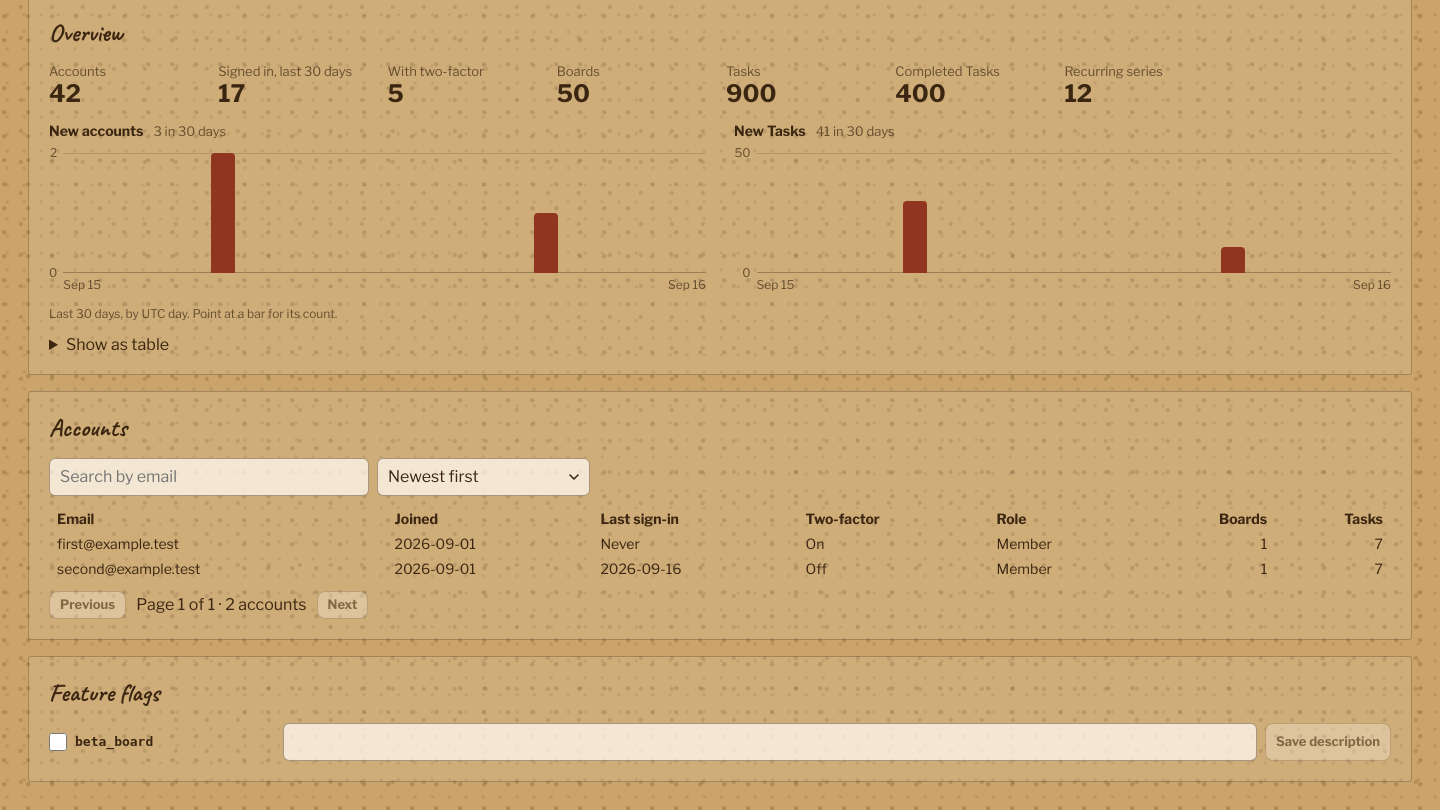
Test: a failed flag write is shown, and the list is not refreshed as if it saved
(page scrolled)
What coordinates should you click on to do the following:
click the checkbox labelled "beta_board"
I would click on:
 (58, 742)
Its box is [49,733,67,751].
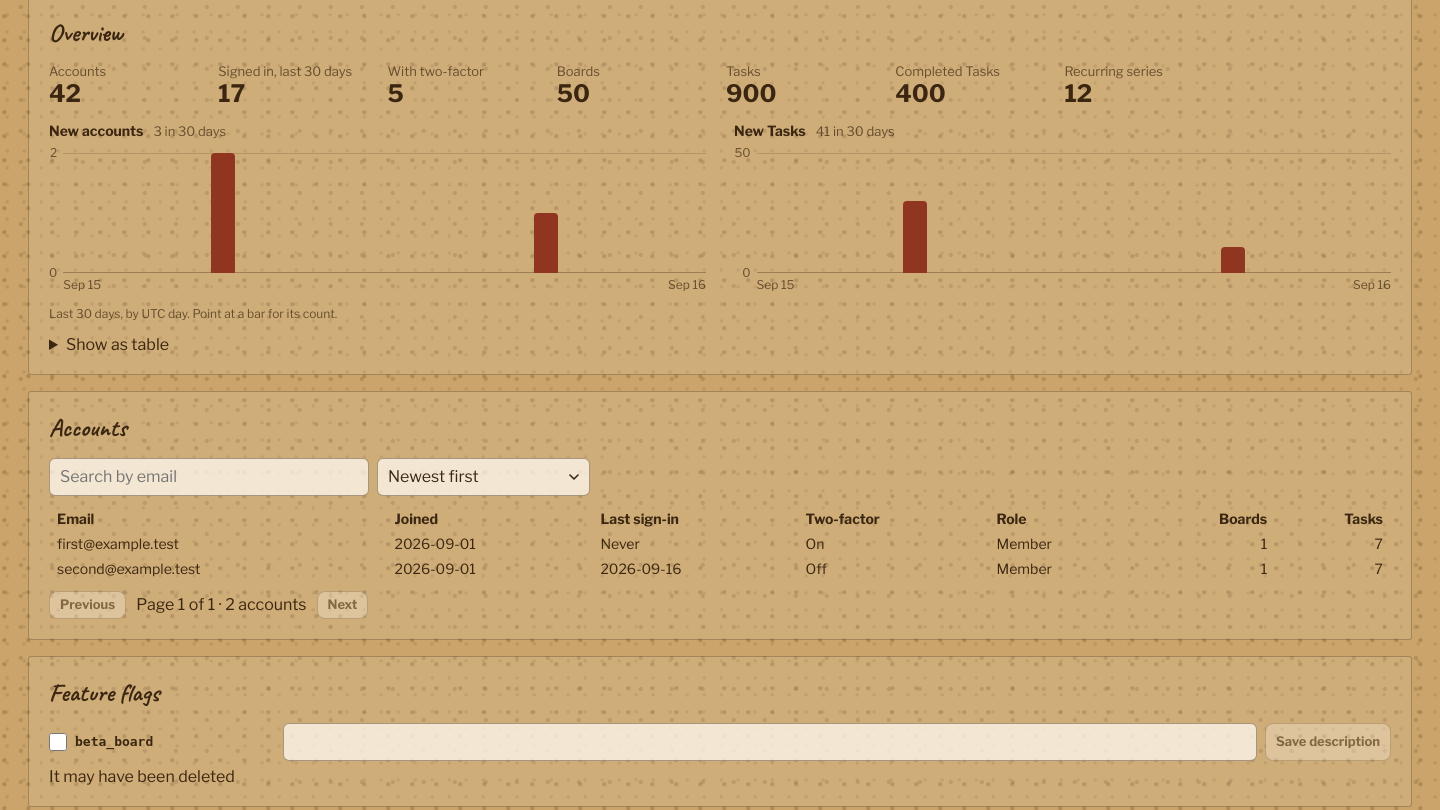
Expected: the message does not show "two-factor", [49,767,235,786]
Now the message reads "It may have been deleted", box [49,767,235,786]
